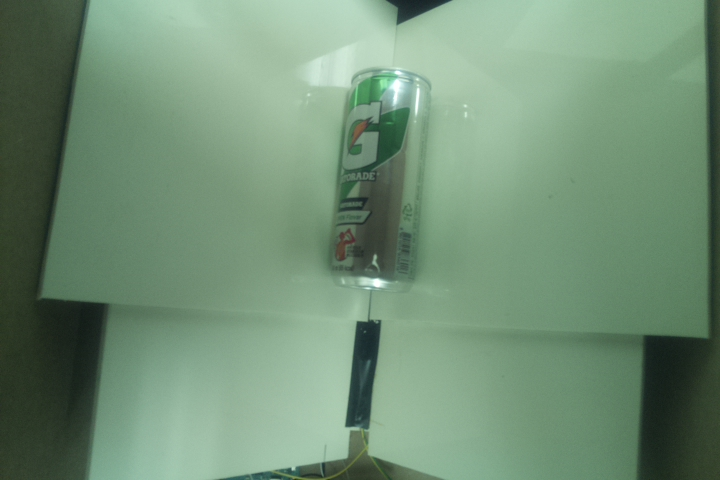can: (325, 64, 436, 293)
